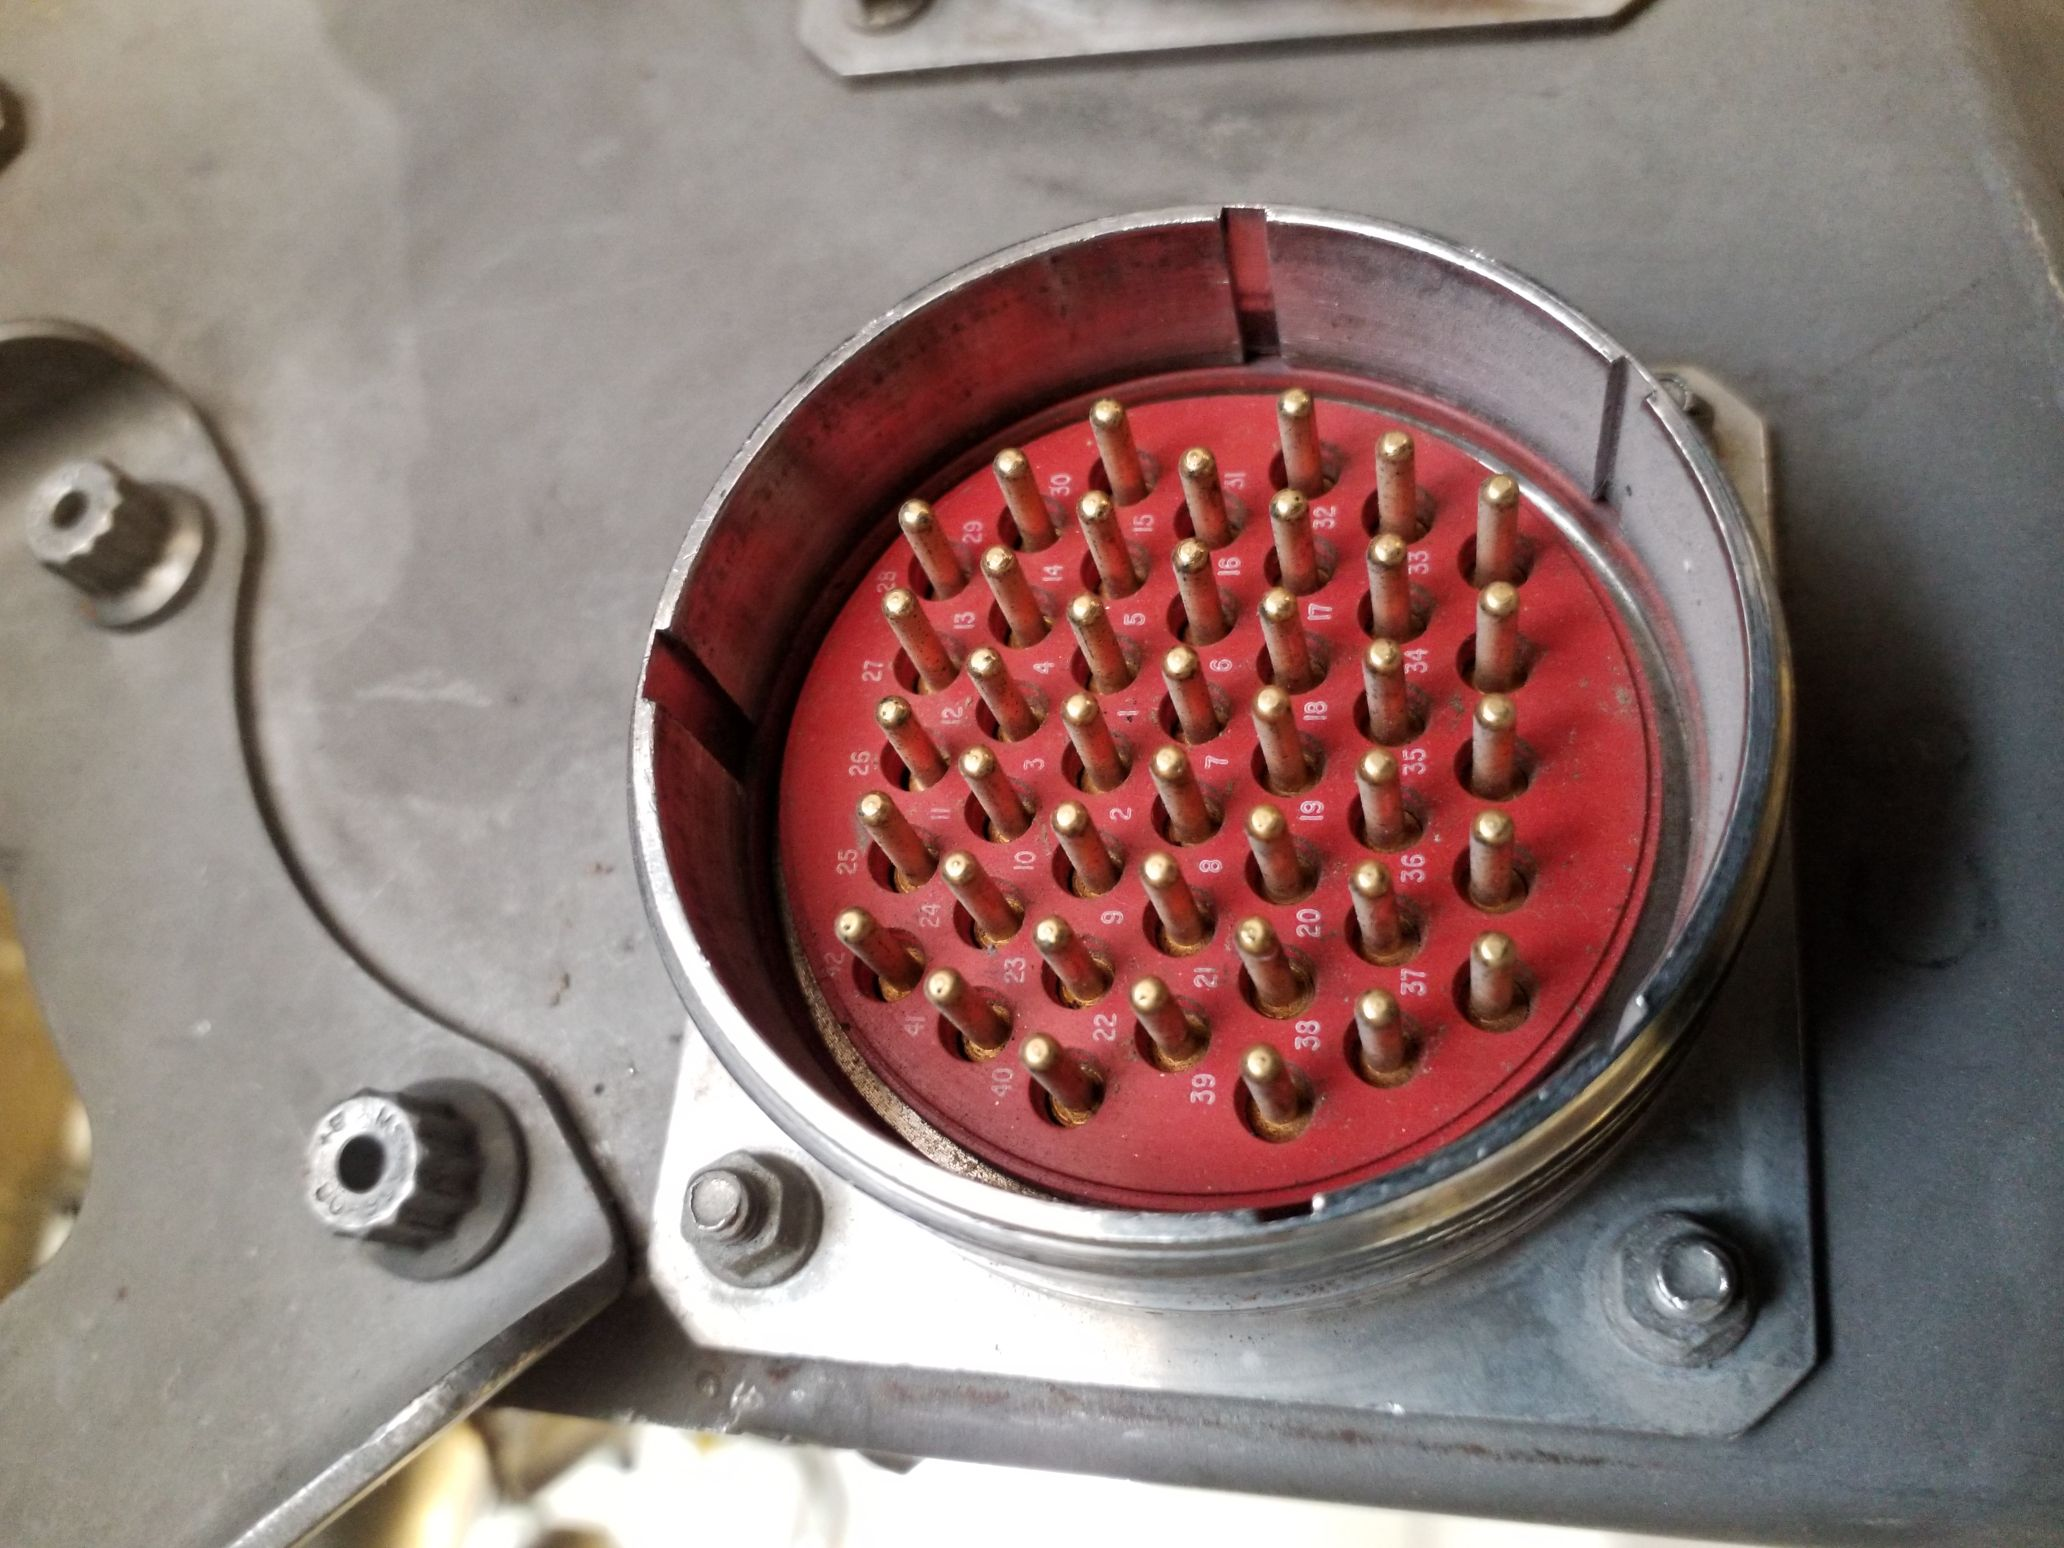outlet: (632, 185, 1810, 1272)
